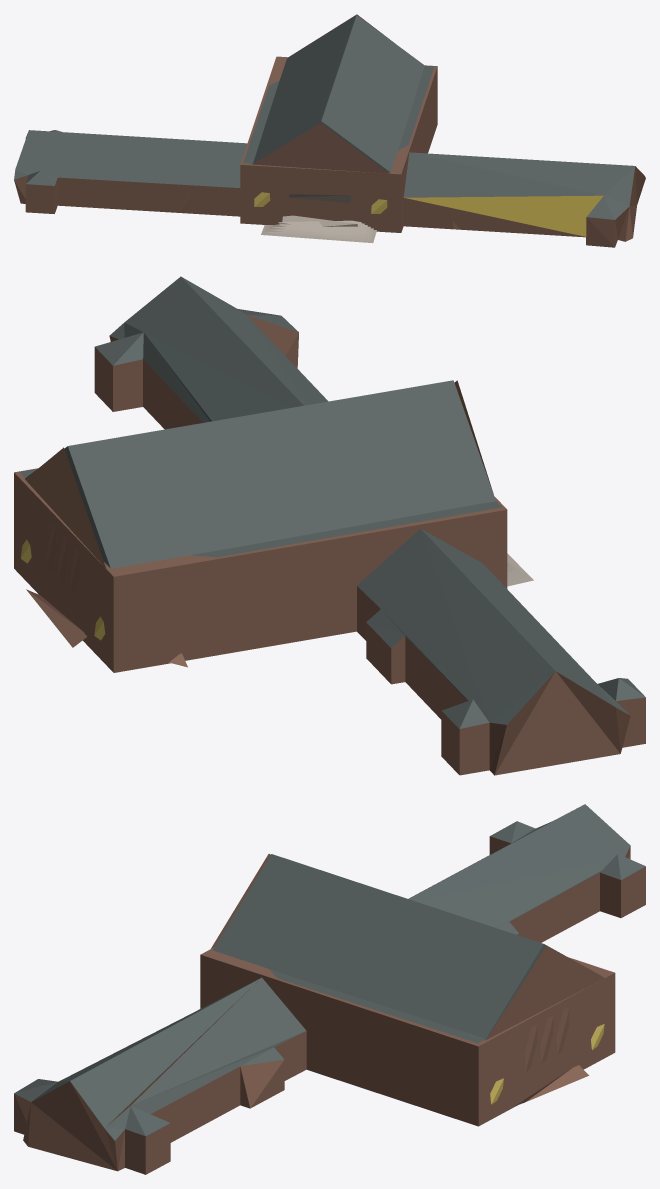
File: zonnehuis.lod2.glb
The picture shows the model from 3 angles, top to bottom: view 1: azimuth 30°, elevation 25°; view 2: azimuth 150°, elevation 25°; view 3: azimuth 270°, elevation 25°; orthographic projection. The views are drawn at different scales.
Parts seen in each view (by area): view 1: lod2; view 2: lod2; view 3: lod2.
Part boxes in pixels (x1,y1,x2,y2): lod2: [14, 14, 645, 247]; lod2: [14, 276, 645, 775]; lod2: [14, 804, 645, 1174].
Bounding box in the file's own units: 68.61 × 14.66 × 57.98.
